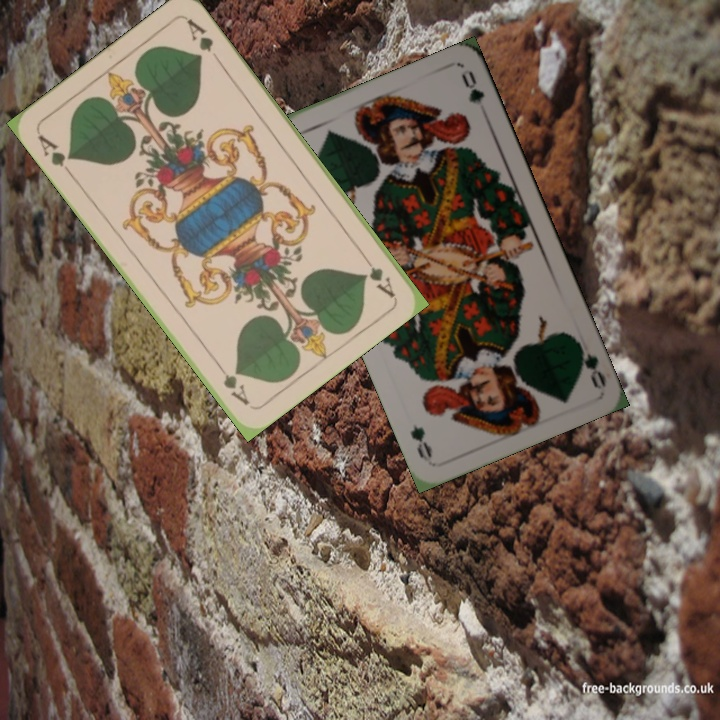GA: (357, 248, 398, 300), (33, 131, 77, 179)
GO: (570, 335, 608, 391)
